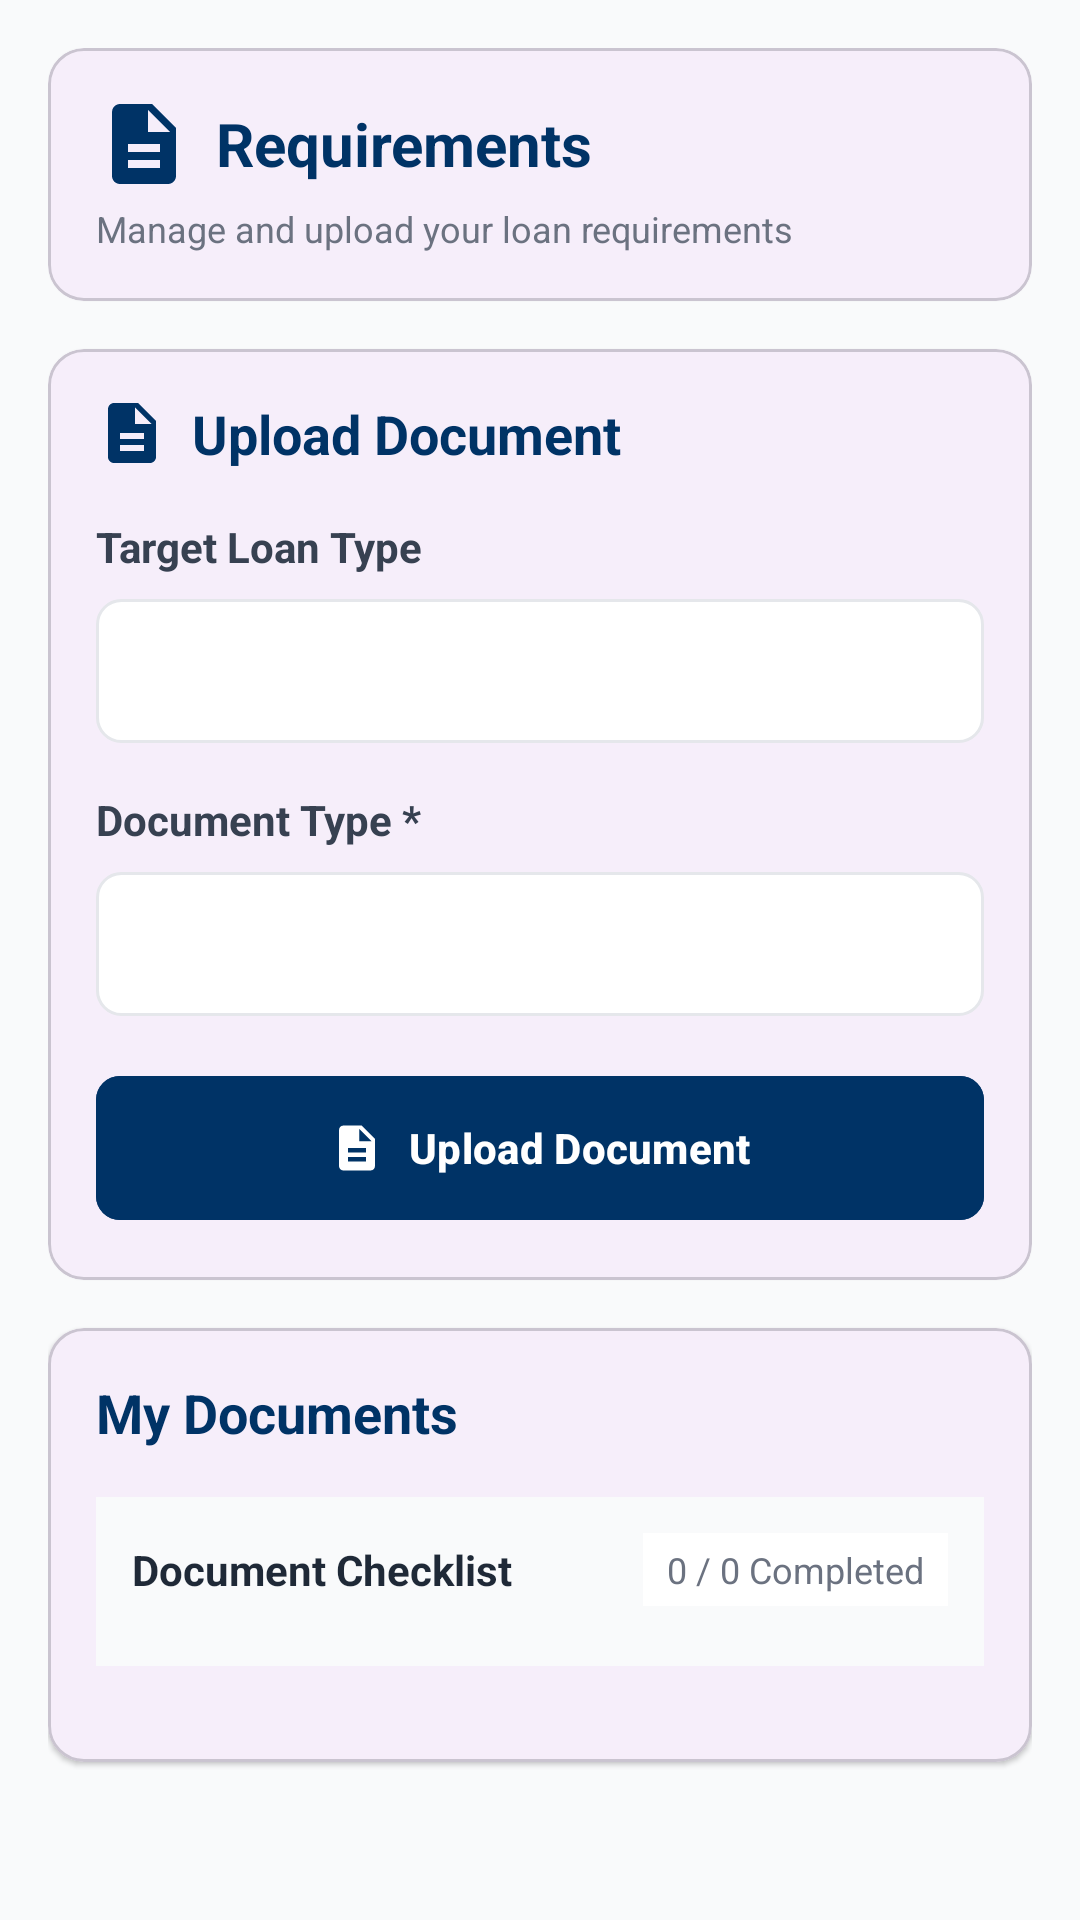

Where icons sit on this 1080×1920 app screen, as (x1, y1, x2, y2):
description: (112, 104, 176, 184)
